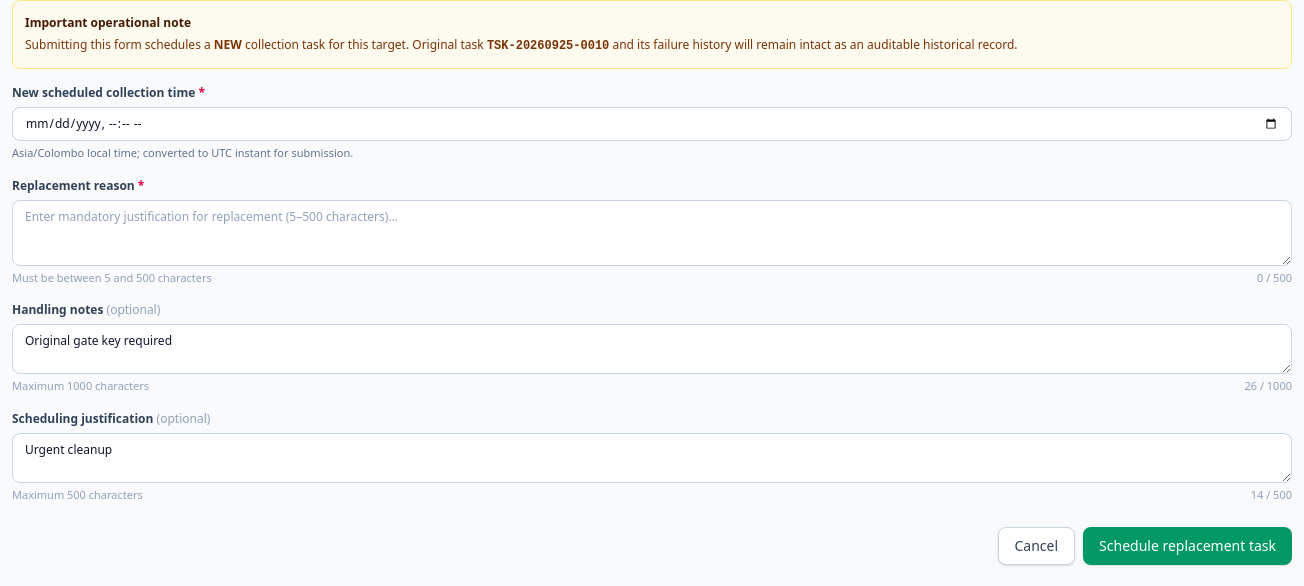
Test: ReplacementTaskForm › enforces 5-character minimum for replacement justification reason
This screenshot has width=1304, height=586.
Type "2099-01-01T10:00" into the field labelled "New scheduled collection time *". click: (652, 124)
box: [12,107,1292,141]
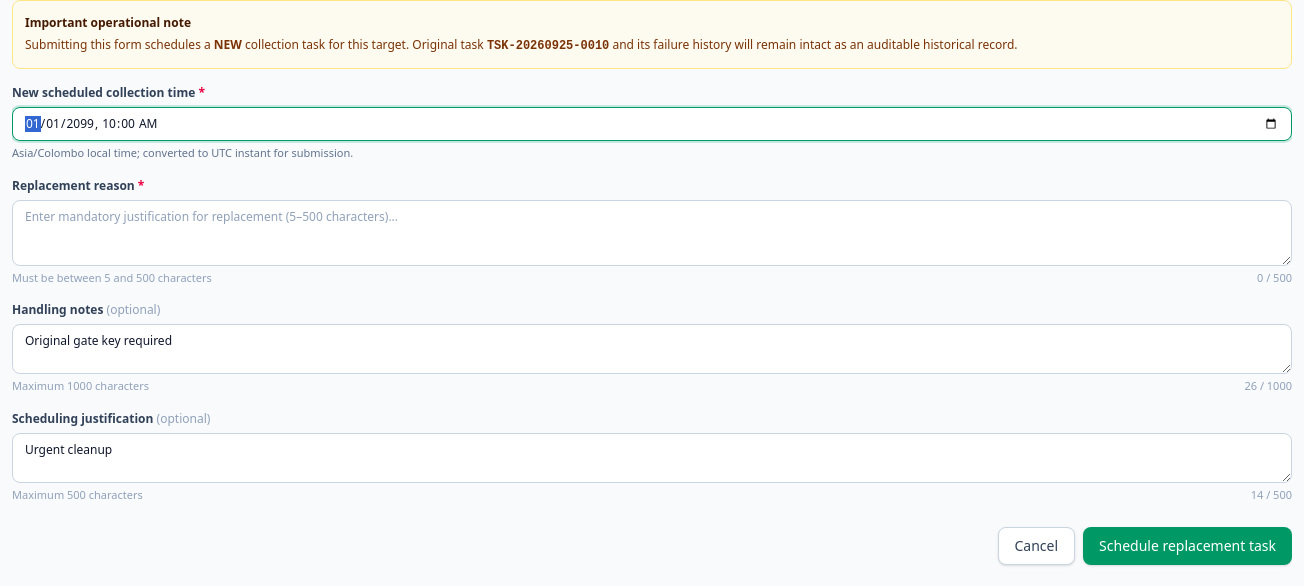
Type "bad" into the text box labelled "Replacement reason *". click: (652, 232)
box: [12,200,1292,266]
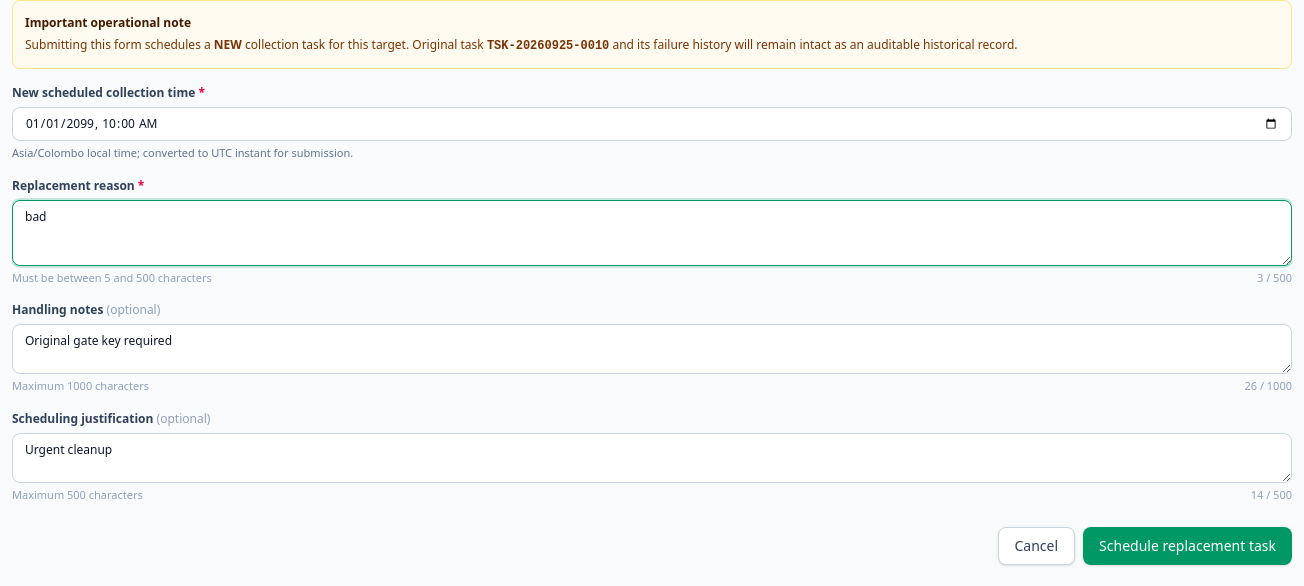
Click the button "Schedule replacement task". click: (1188, 546)
box: [1083,527,1292,565]
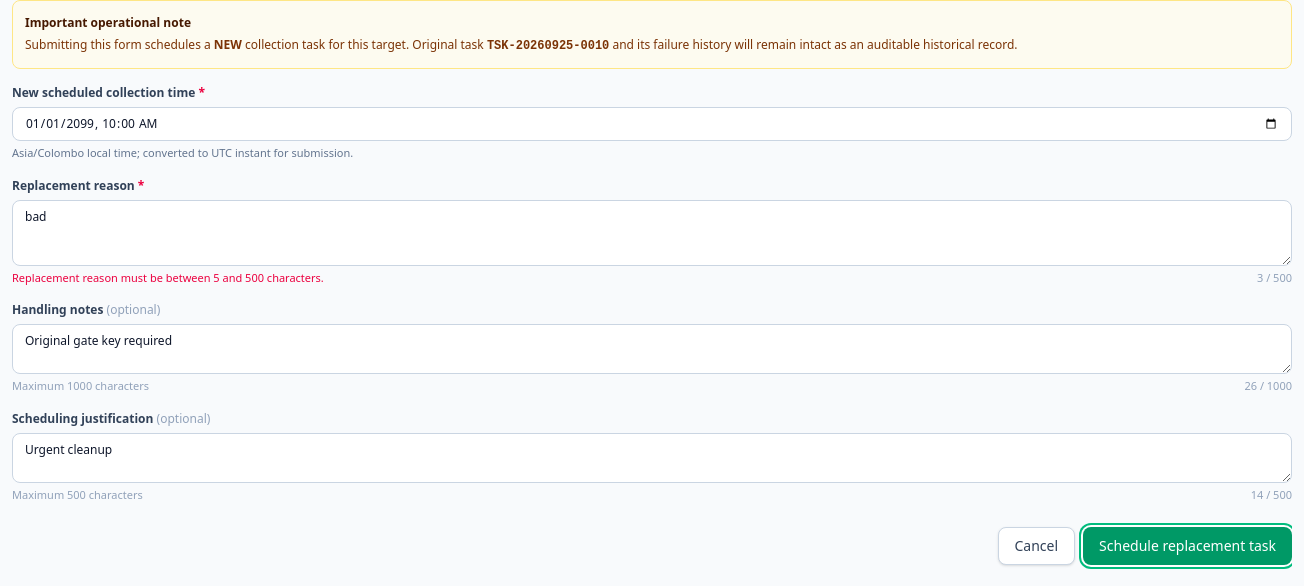
Check: the text "Replacement reason must be between 5 and 500 characters." is shown, box [12,270,324,286]
